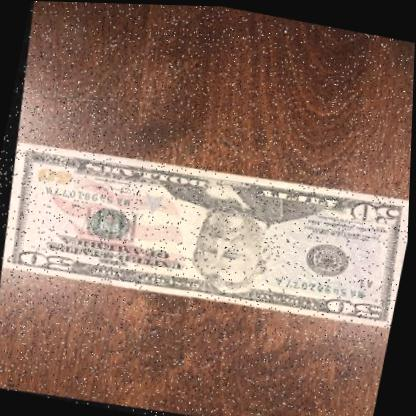fifty-front: (0, 125, 412, 342)
